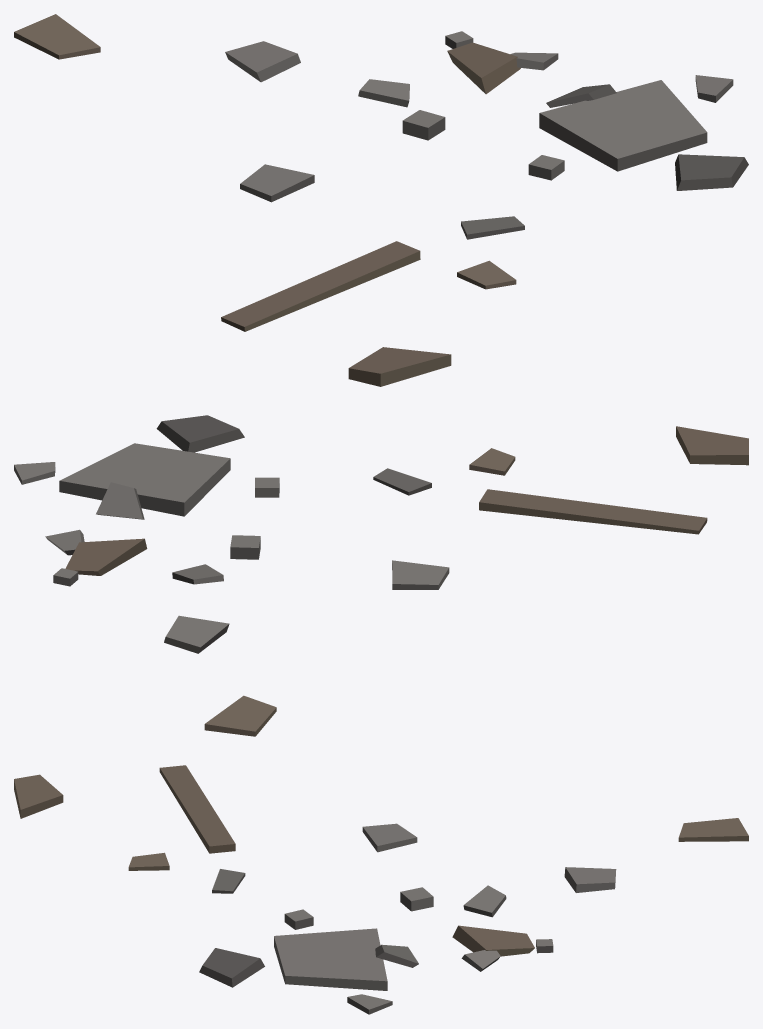
The model's file is AI_Env_GroundDirt_06.fbx.
3 renders of one model, top to bottom at view 1: azimuth 30°, elevation 25°; view 2: azimuth 150°, elevation 25°; view 3: azimuth 270°, elevation 25°, orthographic. The views are drawn at different scales.
Parts seen in each view (by area): view 1: AI_Env_GroundDirt_06; view 2: AI_Env_GroundDirt_06; view 3: AI_Env_GroundDirt_06.
Boxes of the visible parts, bbox=[...] form: AI_Env_GroundDirt_06: bbox=[14, 14, 748, 386]; AI_Env_GroundDirt_06: bbox=[14, 415, 748, 736]; AI_Env_GroundDirt_06: bbox=[14, 765, 748, 1014].
Size of the model in its own units: 3.64 by 0.131 by 4.59.
